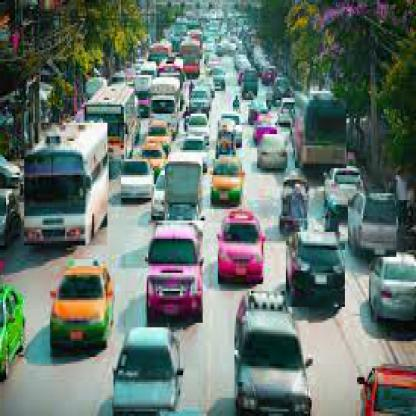bus: (24, 124, 108, 249), (295, 92, 348, 171)
car: (234, 292, 310, 415), (49, 258, 116, 360), (113, 328, 184, 415), (148, 222, 204, 326), (285, 233, 346, 310), (217, 213, 266, 288), (370, 251, 416, 326), (348, 194, 398, 260), (213, 160, 246, 208), (120, 160, 154, 201), (257, 135, 290, 172)
